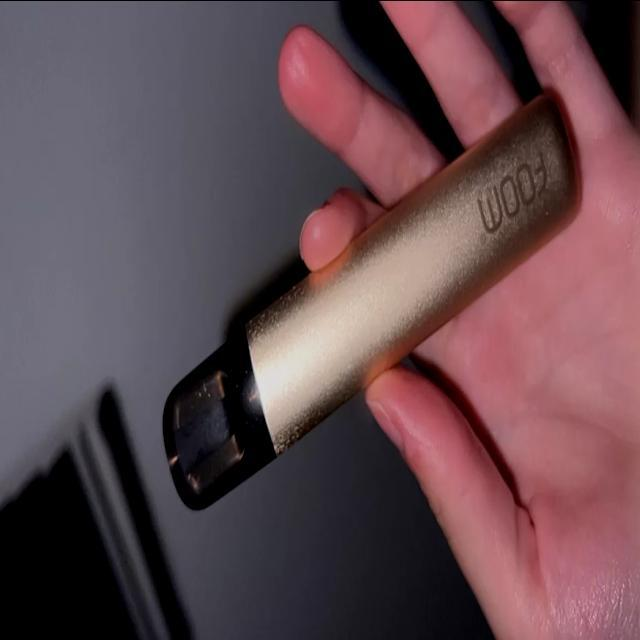Hazard: (158, 82, 584, 513)
